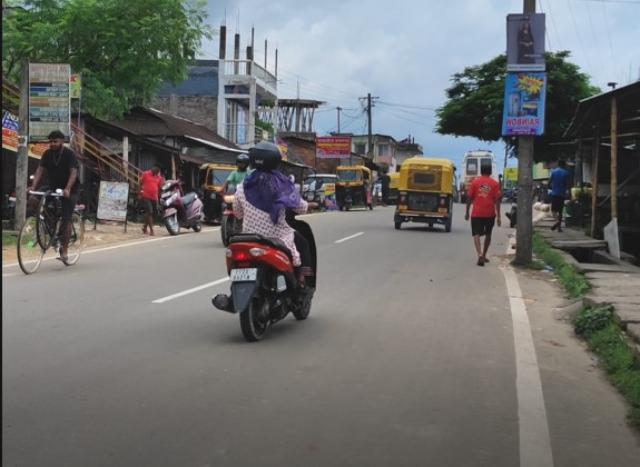licensePlate: (226, 267, 256, 284)
motorcycle: (212, 137, 321, 342)
withHelmet: (247, 141, 283, 174)
